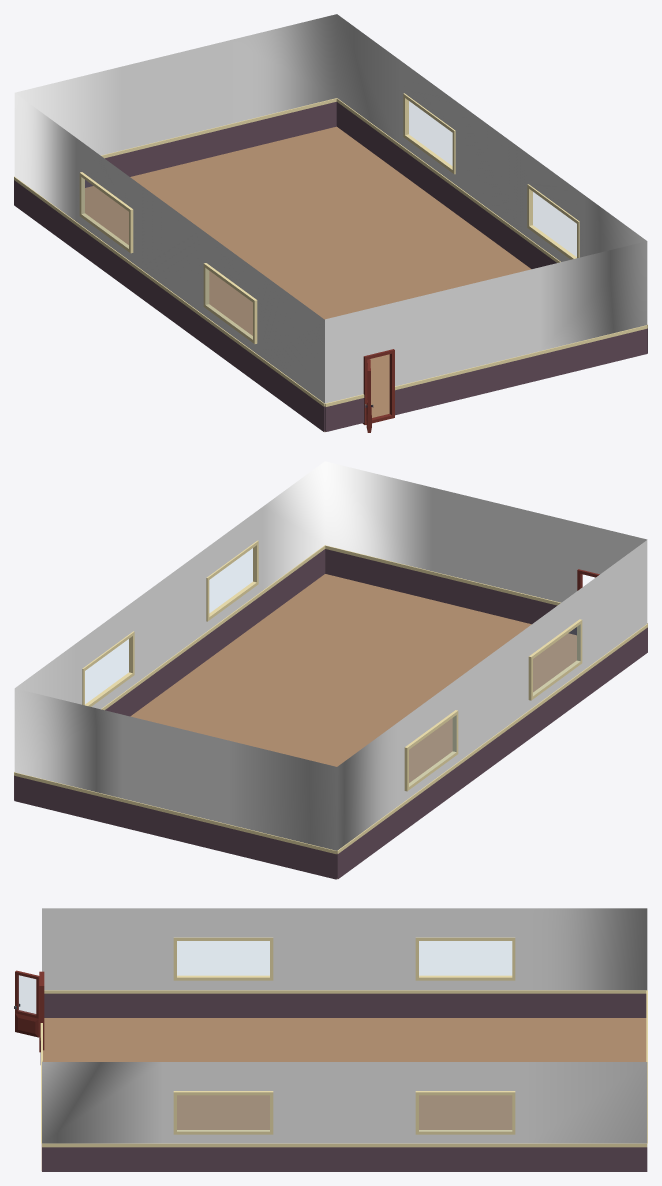
Rendered from building.glb.
3 renders of one model, top to bottom at view 1: azimuth 30°, elevation 25°; view 2: azimuth 150°, elevation 25°; view 3: azimuth 270°, elevation 25°, orthographic. The views are drawn at different scales.
Parts seen in each view (by area): view 1: Wall.002, Plane.001; view 2: Wall.002, Plane.001; view 3: Wall.002, Plane.001.
Part boxes in pixels (x1=…): Wall.002: x1=14, y1=14, x2=647, y2=432; Plane.001: x1=85, y1=126, x2=531, y2=431; Wall.002: x1=14, y1=461, x2=647, y2=879; Plane.001: x1=130, y1=574, x2=576, y2=878; Wall.002: x1=14, y1=908, x2=647, y2=1171; Plane.001: x1=41, y1=1018, x2=646, y2=1170.
Bounding box in the file's own units: 12.19 × 4.07 × 20.95.
3 materials, 1 textured.
